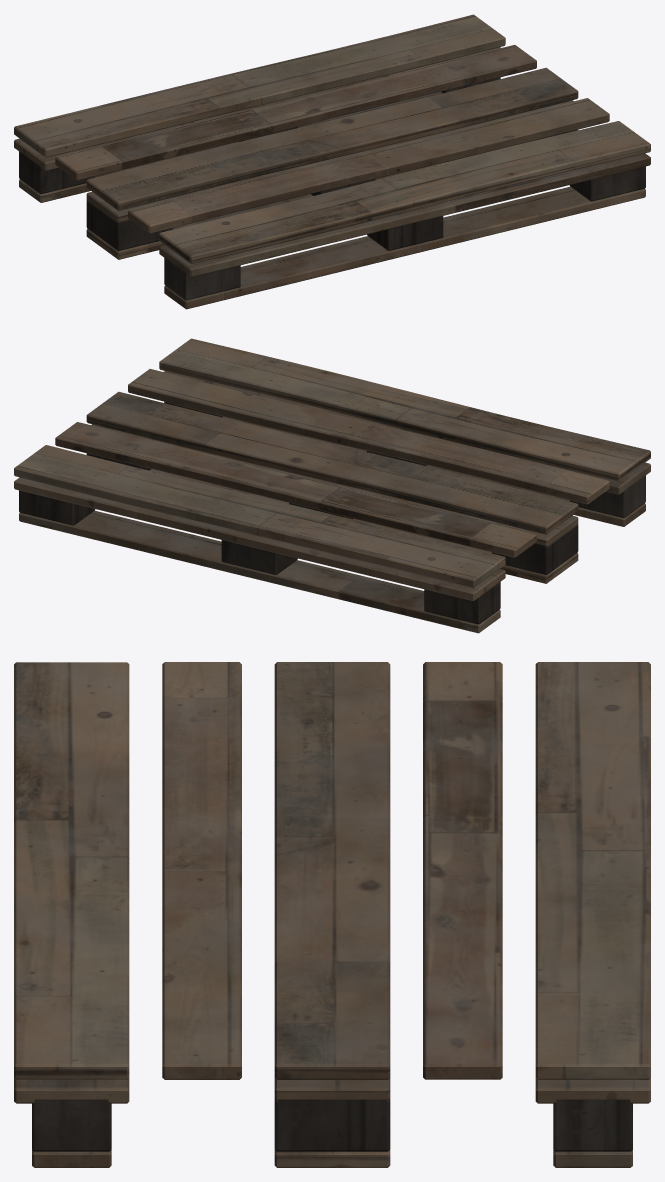
File: Pallet.fbx
3 views of the same model, one above another, from view 1: azimuth 30°, elevation 25°; view 2: azimuth 150°, elevation 25°; view 3: azimuth 270°, elevation 25° (orthographic). The views are drawn at different scales.
Parts seen in each view (by area): view 1: Pallet_Mesh; view 2: Pallet_Mesh; view 3: Pallet_Mesh.
Boxes of the visible parts, x1,y1,x2,y2 form: Pallet_Mesh: (14, 14, 650, 309); Pallet_Mesh: (14, 338, 650, 633); Pallet_Mesh: (14, 662, 650, 1167).
Size of the model in its own units: 1.2 by 0.1461 by 0.8.
